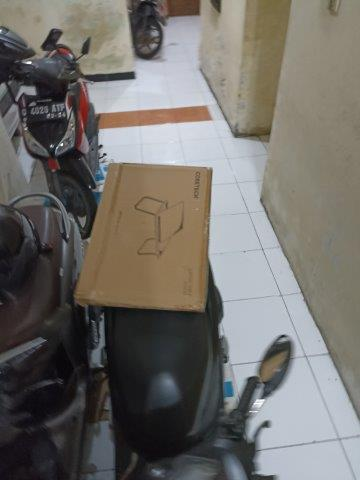kardus: (76, 164, 211, 310)
